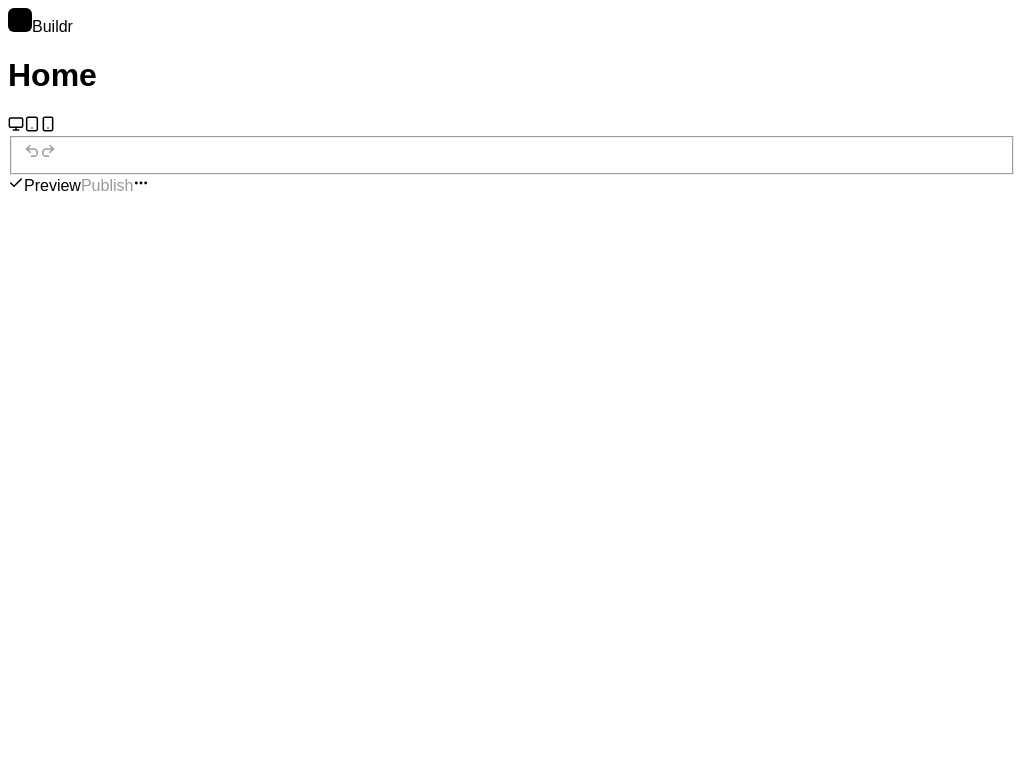
Toolbar › keeps every action reachable in a narrow row by moving them into the more menu
Click the button named "More actions": (141, 184) [133,176,149,192]
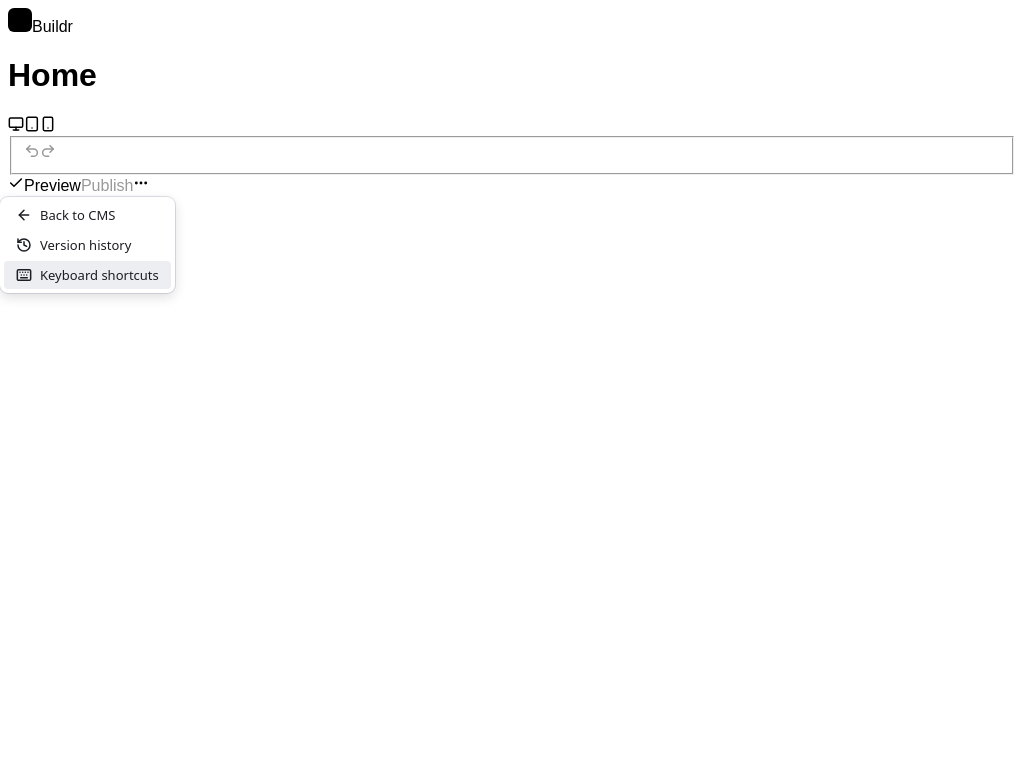
Check: the button named "Undo" is shown, box [24,144,40,160]
Check: the element with class "bd-menu-list" shows "Keyboard shortcuts", box [4,261,171,289]
